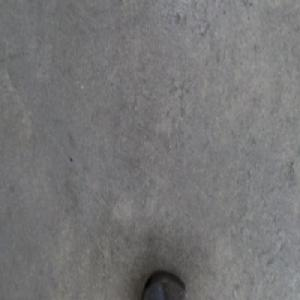AdjustableWrench: (142, 270, 188, 298)
